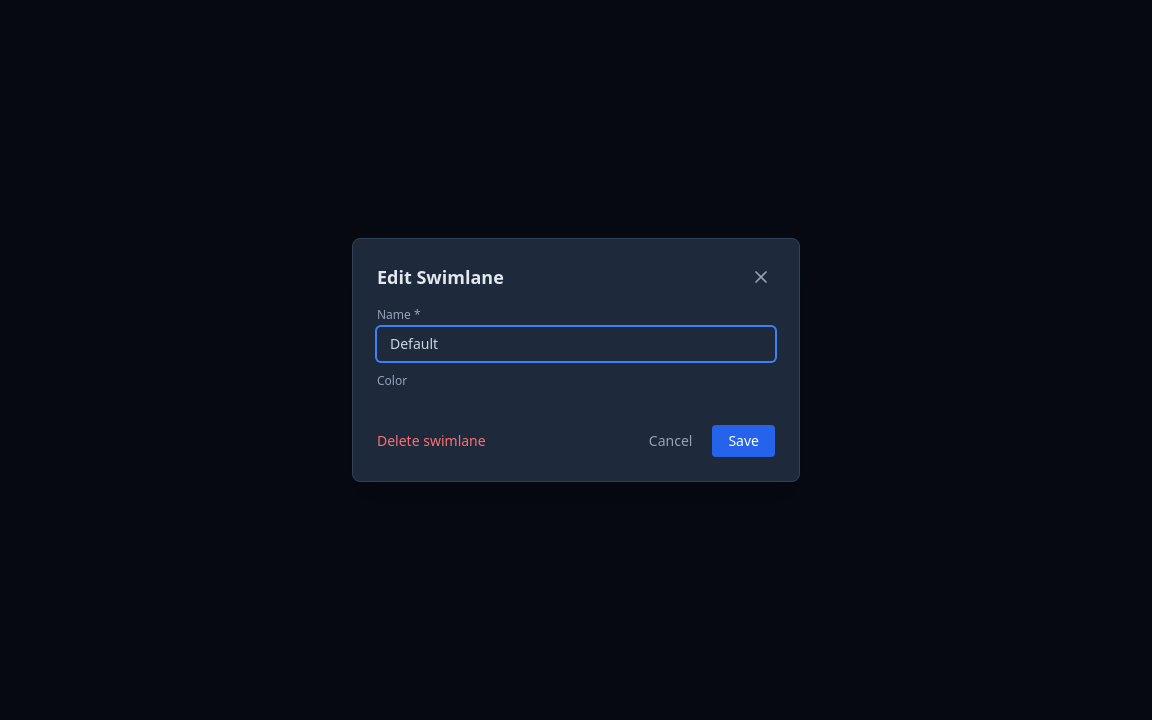
Test case: EditSwimlaneModal › shows delete confirmation when Delete swimlane is clicked
The width and height of the screenshot is (1152, 720).
Click the button "Delete swimlane".
click(431, 441)  # box [377,431,486,451]
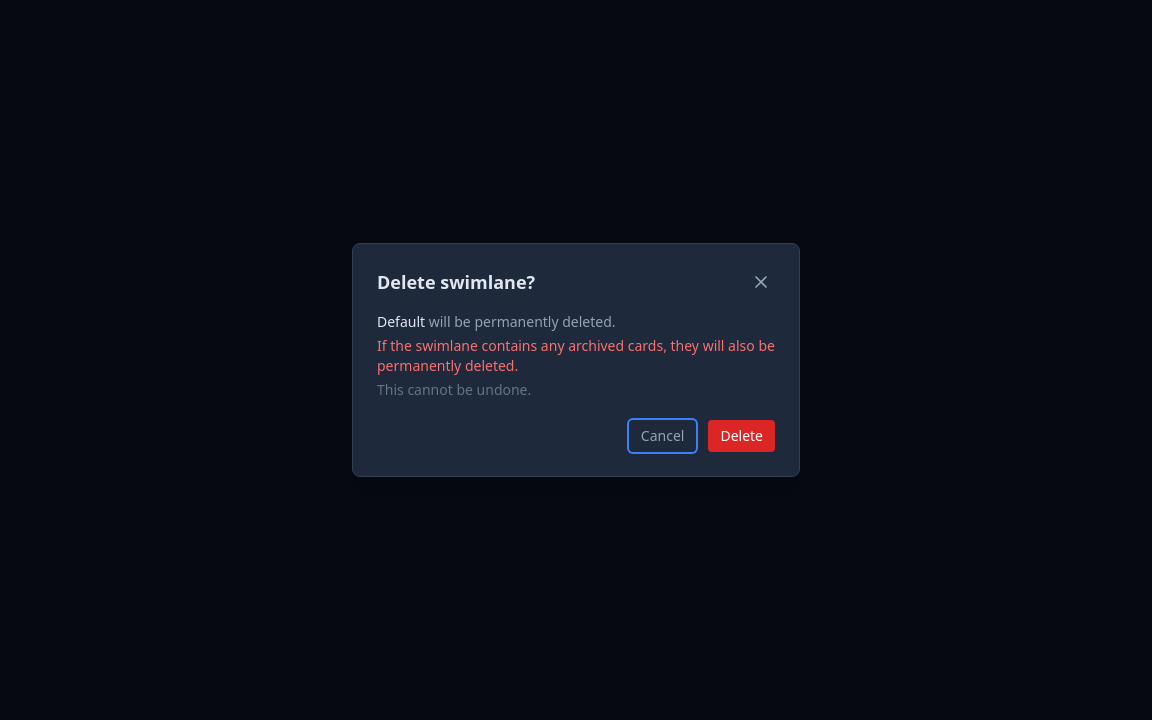
Now the text "This cannot be undone." is shown, box [377,380,531,399]
Now the text "If the swimlane contains any archived cards, they will also be permanently deleted" is shown, box [377,336,775,375]
